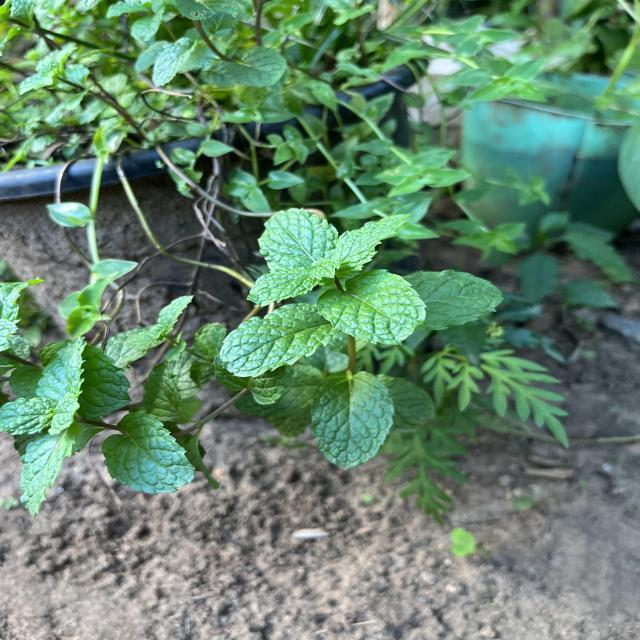Mentha spicata: (218, 300, 337, 380), (309, 369, 396, 472), (316, 268, 429, 347), (100, 411, 199, 496), (256, 207, 340, 271)
